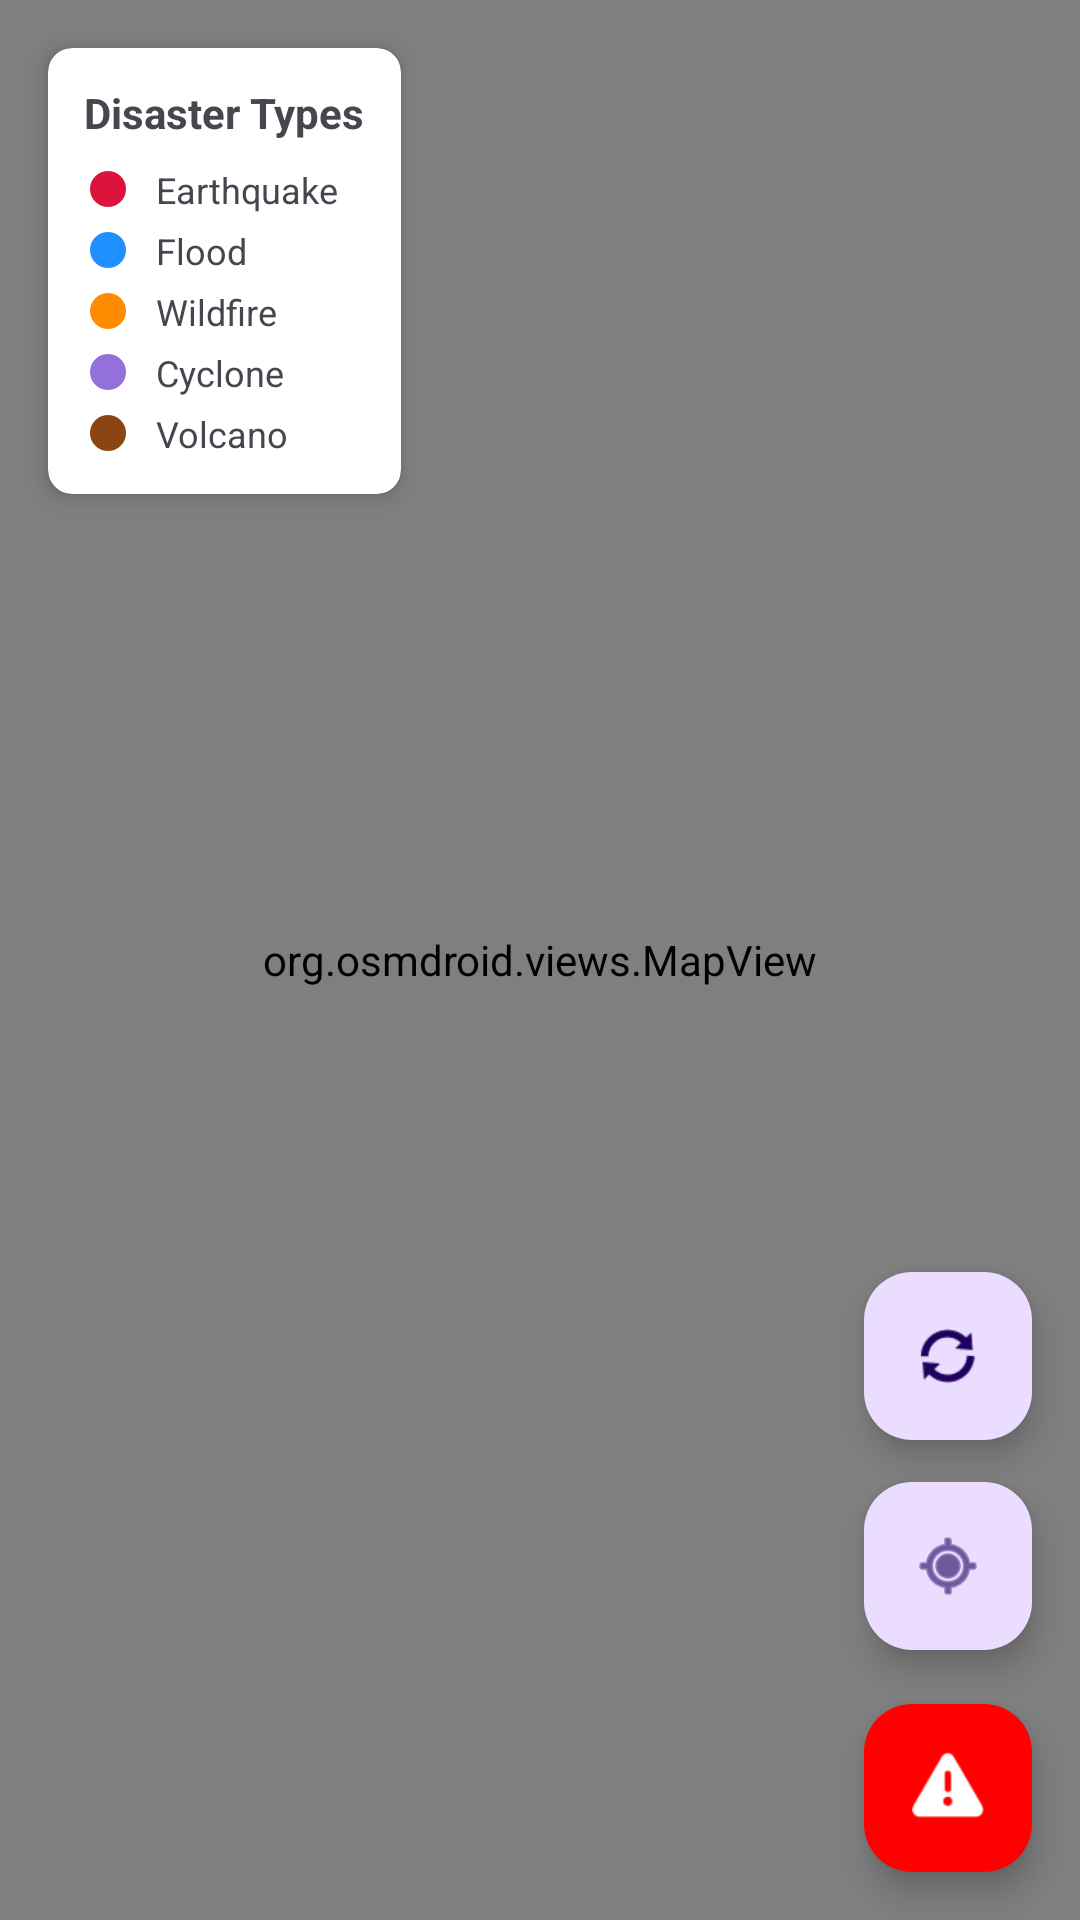

Where icons sit on this 1080w x 1920h app screen, as (x1=x1, y1=y1, x2=x2, y2=y2):
My Location: (x1=864, y1=1482, x2=1032, y2=1650)
Refresh Disasters: (x1=864, y1=1272, x2=1032, y2=1440)
SOS Emergency Button: (x1=864, y1=1704, x2=1032, y2=1872)
